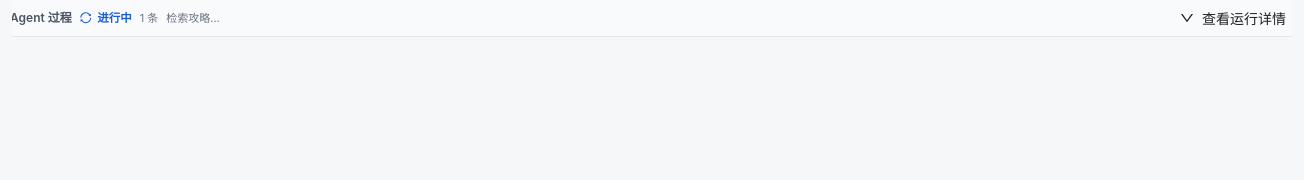
Test: AgentActivityPanel › P1：rag_result 携带 citations 时展示知识依据，空 citations 不渲染
Click the button "查看运行详情" at (1232, 18), box x1=1172 y1=6 x2=1292 y2=30
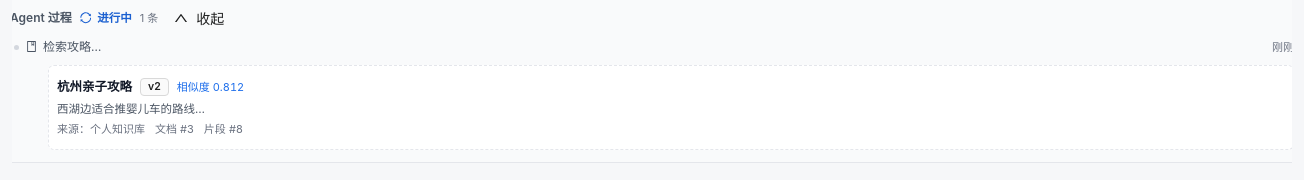
Now the text "杭州亲子攻略" is shown, box x1=57 y1=78 x2=132 y2=97
Now the text "v2" is shown, box x1=140 y1=78 x2=169 y2=96
Now the text "相似度 0.812" is shown, box x1=177 y1=79 x2=244 y2=96
